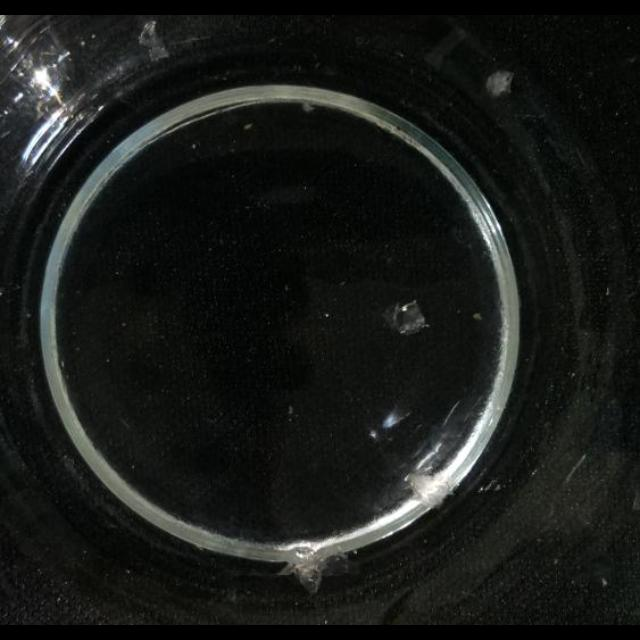Fibre: (138, 20, 170, 62), (301, 102, 315, 114)
microbeads: (485, 70, 513, 96), (477, 478, 501, 494), (288, 404, 294, 416), (284, 284, 290, 292)
